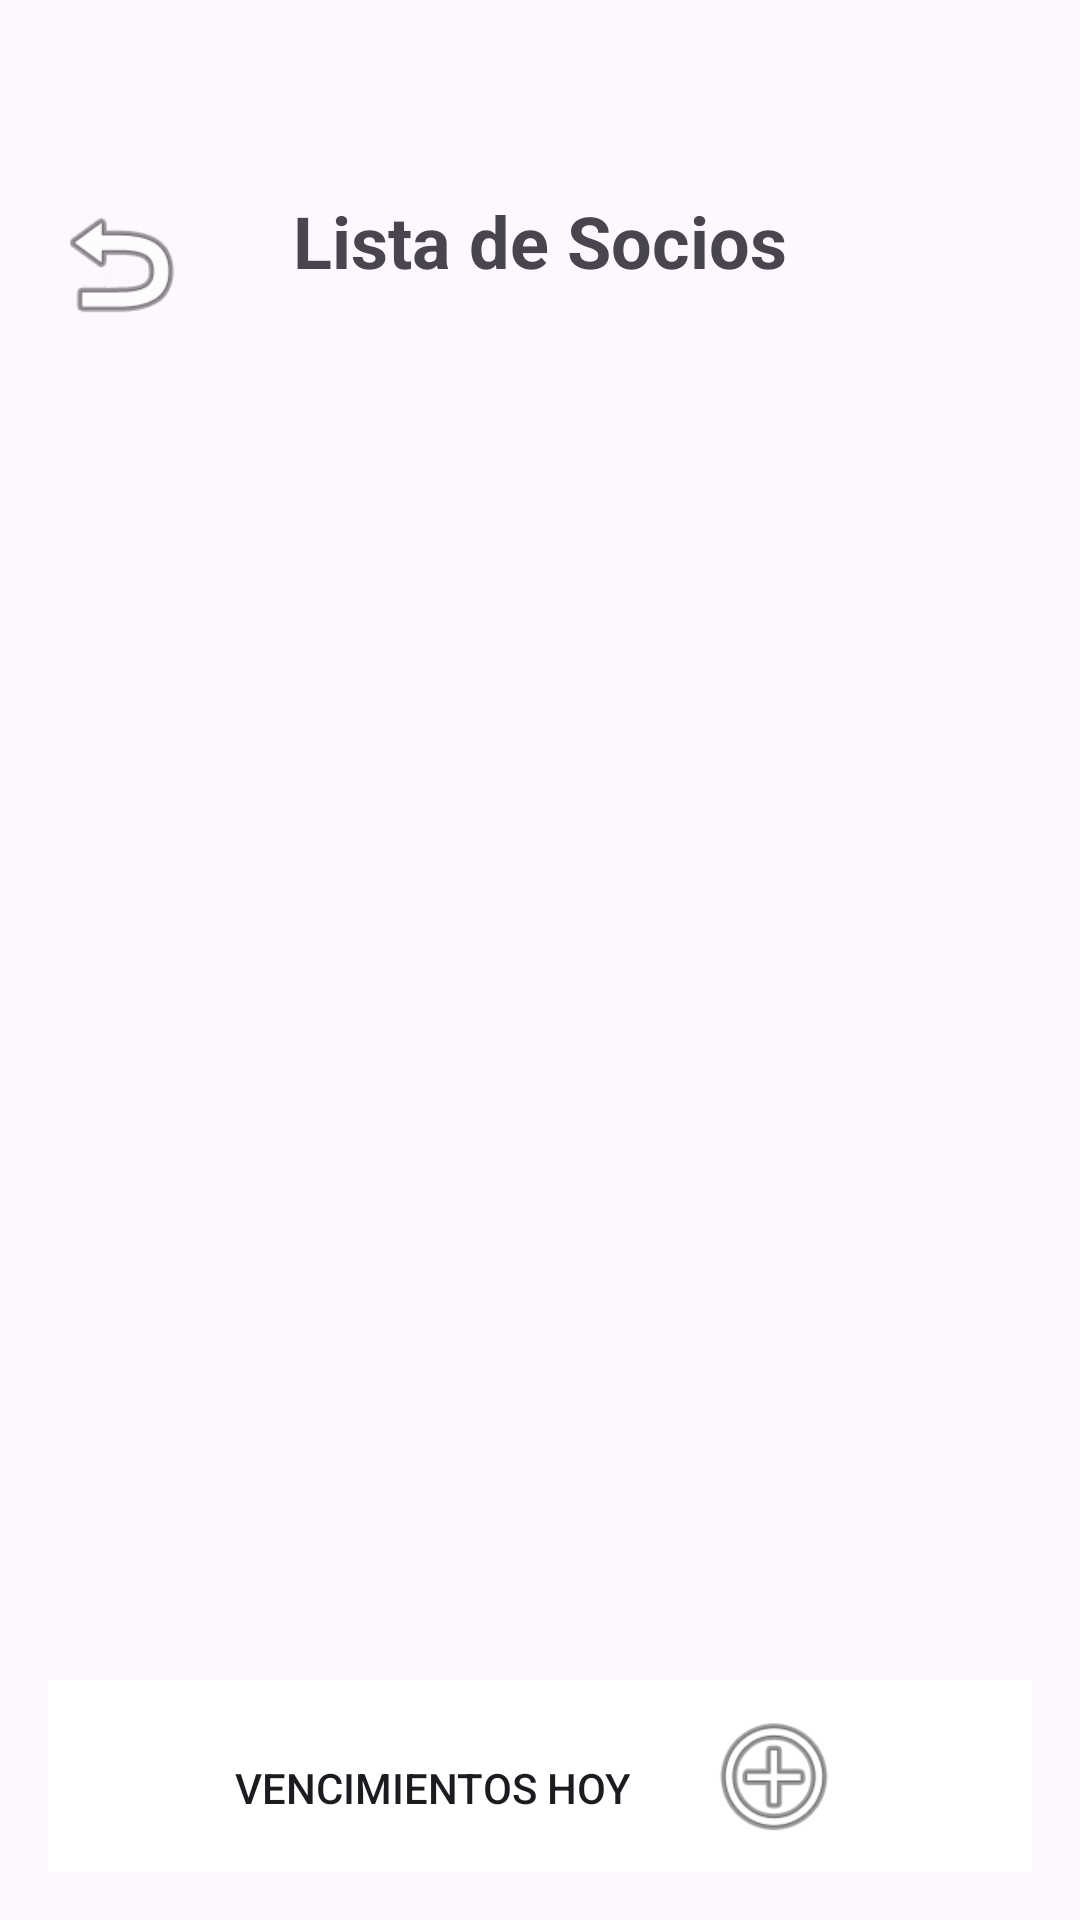

Where to tap for icons on this 1080x1920 app screen, as [x,y]:
Agregar nuevos socios: [774,1776]
